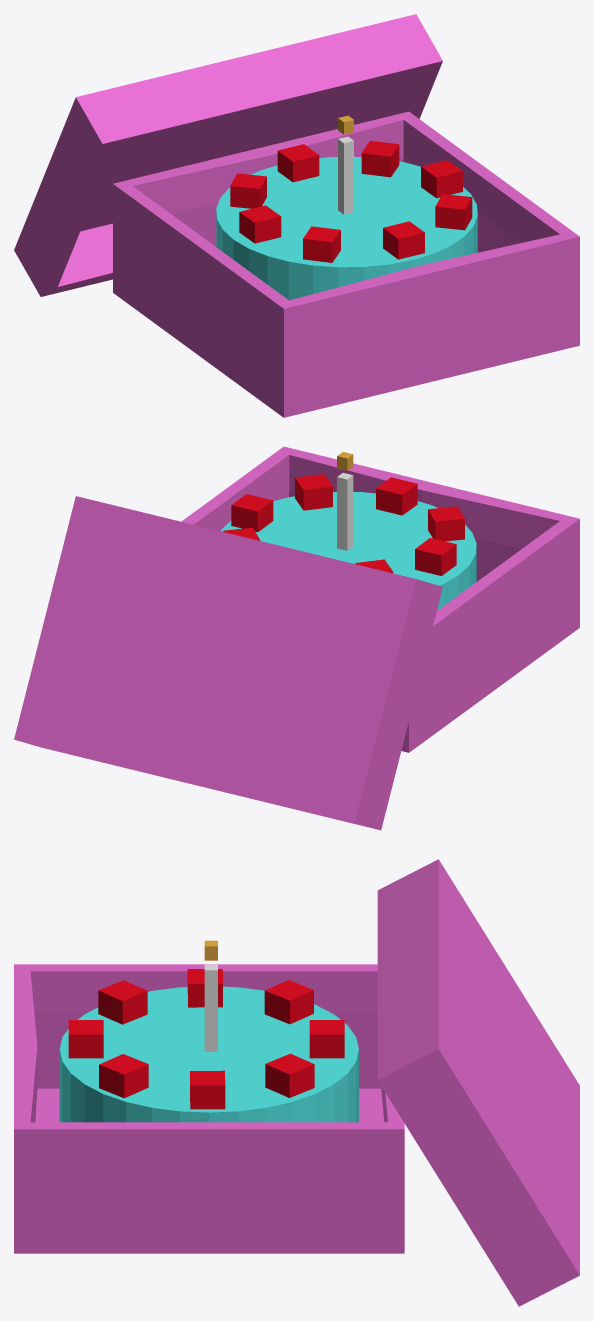
The model's file is Brithday Cake.fbx.
3 renders of one model, top to bottom at view 1: azimuth 30°, elevation 25°; view 2: azimuth 150°, elevation 25°; view 3: azimuth 270°, elevation 25°, orthographic. The views are drawn at different scales.
Visible parts, largest first — view 1: Cube, Cube.001, Cylinder, Cube.002, Cube.004, Cube.003, Cube.005, Cube.008, Cube.006, Cube.010, Cube.009, Cube.007; view 2: Cube.001, Cube, Cylinder, Cube.003, Cube.004, Cube.005, Cube.010, Cube.006, Cube.009; view 3: Cube, Cube.001, Cylinder, Cube.008, Cube.009, Cube.007, Cube.006, Cube.002, Cube.003, Cube.005, Cube.010, Cube.004.
Boxes of the visible parts, left/top/right/bottom form: Cube: left=113, top=111, right=579, bottom=417; Cube.001: left=14, top=14, right=442, bottom=296; Cylinder: left=216, top=156, right=477, bottom=300; Cube.002: left=277, top=144, right=319, bottom=182; Cube.004: left=239, top=205, right=281, bottom=243; Cube.003: left=383, top=221, right=424, bottom=259; Cube.005: left=421, top=160, right=462, bottom=198; Cube.008: left=361, top=140, right=399, bottom=177; Cube.006: left=435, top=194, right=472, bottom=230; Cube.010: left=338, top=136, right=353, bottom=214; Cube.009: left=303, top=226, right=340, bottom=262; Cube.007: left=230, top=173, right=266, bottom=208; Cube.001: left=14, top=496, right=442, bottom=830; Cube: left=181, top=446, right=579, bottom=752; Cylinder: left=221, top=492, right=476, bottom=610; Cube.003: left=376, top=477, right=417, bottom=515; Cube.004: left=415, top=538, right=456, bottom=575; Cube.005: left=231, top=494, right=273, bottom=531; Cube.010: left=337, top=473, right=353, bottom=550; Cube.006: left=295, top=474, right=332, bottom=510; Cube.009: left=428, top=506, right=464, bottom=541; Cube: left=14, top=964, right=404, bottom=1253; Cube.001: left=377, top=859, right=579, bottom=1306; Cylinder: left=59, top=986, right=358, bottom=1122; Cube.008: left=265, top=1053, right=314, bottom=1097; Cube.009: left=98, top=980, right=147, bottom=1024; Cube.007: left=264, top=980, right=313, bottom=1024; Cube.006: left=99, top=1054, right=148, bottom=1098; Cube.002: left=309, top=1020, right=344, bottom=1058; Cube.003: left=68, top=1020, right=103, bottom=1058; Cube.005: left=190, top=1070, right=225, bottom=1109; Cube.010: left=204, top=964, right=217, bottom=1051; Cube.004: left=187, top=969, right=222, bottom=1007.
Bounding box in the file's own units: 490 × 324 × 618.
